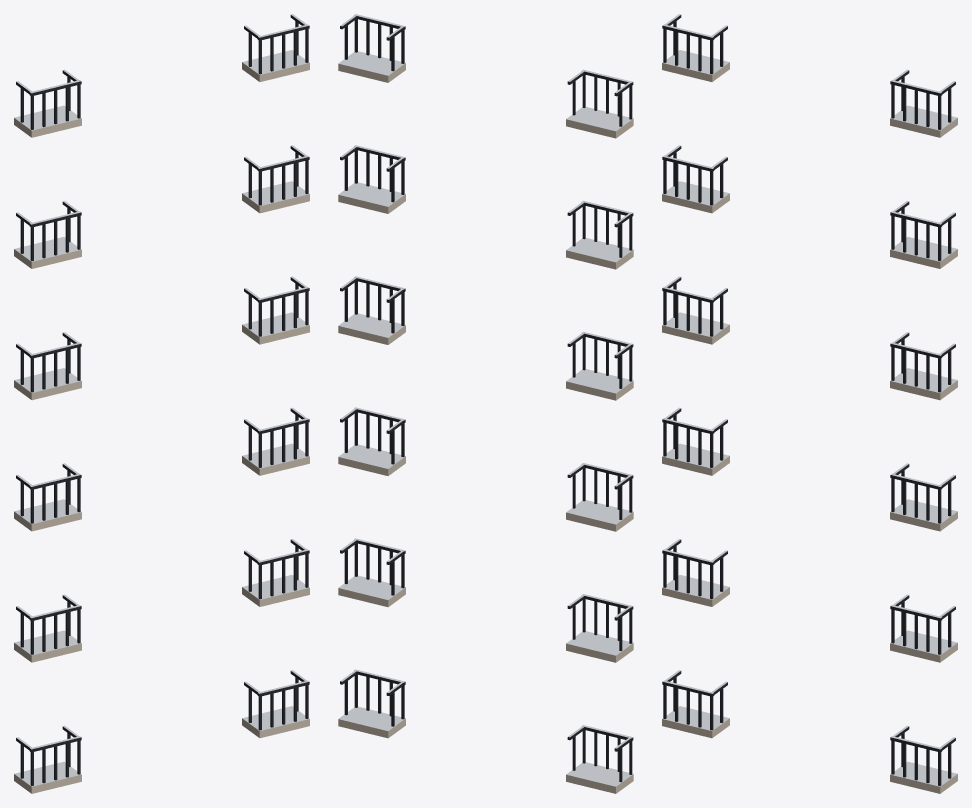
File: Apartment_Grey_Balconies.glb
3 renders of one model, left to right at view 1: azimuth 30°, elevation 25°; view 2: azimuth 150°, elevation 25°; view 3: azimuth 330°, elevation 25°, orthographic.
Visible parts, largest first — view 1: Apartment_Grey_Balconies; view 2: Apartment_Grey_Balconies; view 3: Apartment_Grey_Balconies.
Part boxes in pixels (x1=…): Apartment_Grey_Balconies: x1=14, y1=14, x2=309, y2=793; Apartment_Grey_Balconies: x1=338, y1=14, x2=633, y2=793; Apartment_Grey_Balconies: x1=662, y1=14, x2=957, y2=793.
Size of the model in its own units: 24.4 by 58.7 by 2.7.
